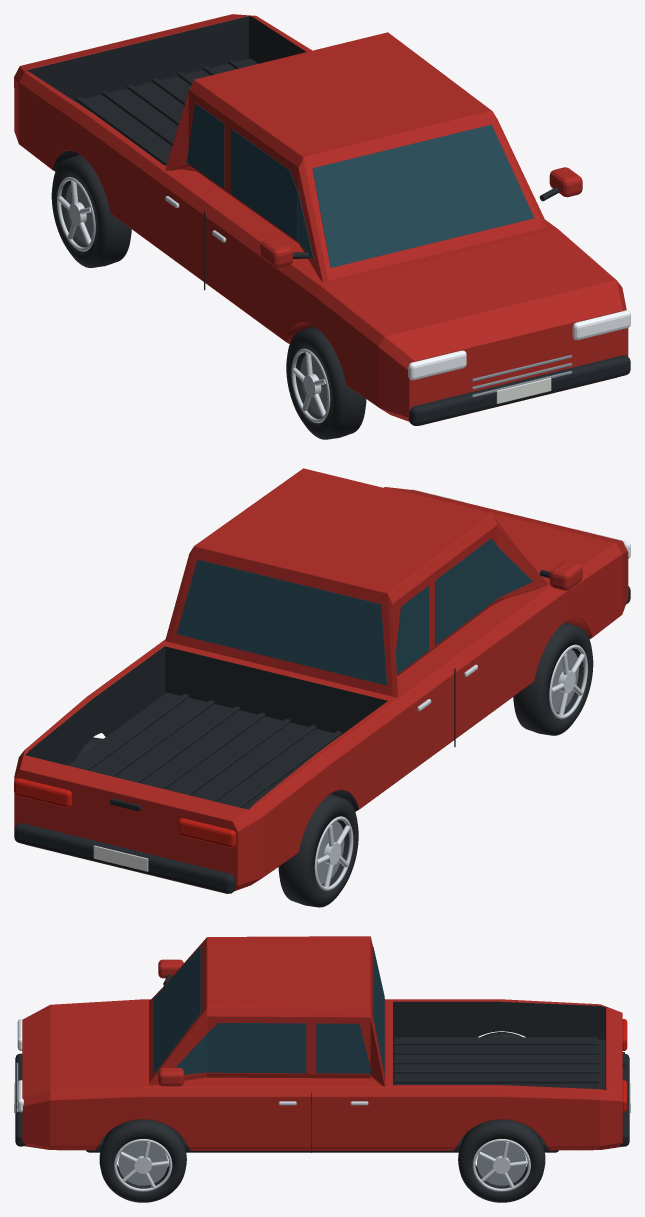
The model's file is vehicle-pickup.glb.
The picture shows the model from 3 angles, top to bottom: view 1: azimuth 30°, elevation 25°; view 2: azimuth 150°, elevation 25°; view 3: azimuth 270°, elevation 25°; orthographic projection. The views are drawn at different scales.
Visible parts, largest first — view 1: Coachwork lower body, Cab and roof, Front windscreen, Front side glass.001, Front_tire, Rear_tire, Bed liner, Bumper, Rear side glass, Headlamp, Headlamp.001, Blank registration panel (+7 smaller); view 2: Coachwork lower body, Cab and roof, Rear windscreen, Bed liner, Rear_tire, Front_tire, Front side glass.001, Bumper.001, Rear side glass, Tail lamp, Tail lamp.001, Front side glass (+13 smaller); view 3: Coachwork lower body, Cab and roof, Bed liner, Front side glass.003, Front_tire.001, Rear_tire.001, Front windscreen, Rear side glass.002, Front_brake.001, Rear_brake.001, Bed rib, Bed rib.002 (+11 smaller).
Boxes of the visible parts, x1,y1,x2,y2 form: Coachwork lower body: [14, 14, 628, 425]; Cab and roof: [165, 32, 548, 281]; Front windscreen: [312, 124, 534, 267]; Front side glass.001: [230, 129, 297, 240]; Front_tire: [286, 326, 366, 439]; Rear_tire: [51, 155, 131, 267]; Bed liner: [75, 58, 257, 163]; Bumper: [408, 355, 630, 425]; Rear side glass: [187, 103, 224, 188]; Headlamp: [408, 350, 466, 380]; Headlamp.001: [572, 310, 630, 340]; Blank registration panel: [496, 377, 551, 403]; Coachwork lower body: [14, 487, 628, 893]; Cab and roof: [165, 468, 547, 697]; Rear windscreen: [176, 559, 387, 685]; Bed liner: [67, 692, 337, 809]; Rear_tire: [278, 794, 358, 907]; Front_tire: [513, 622, 593, 735]; Front side glass.001: [435, 538, 498, 645]; Bumper.001: [14, 823, 235, 893]; Rear side glass: [395, 585, 428, 674]; Tail lamp: [178, 818, 236, 847]; Tail lamp.001: [14, 778, 72, 807]; Front side glass: [498, 548, 532, 597]; Coachwork lower body: [22, 999, 622, 1150]; Cab and roof: [149, 936, 385, 1086]; Bed liner: [393, 1037, 598, 1088]; Front side glass.003: [207, 1023, 306, 1073]; Front_tire.001: [99, 1119, 186, 1202]; Rear_tire.001: [458, 1119, 545, 1202]; Front windscreen: [154, 946, 200, 1073]; Rear side glass.002: [316, 1023, 370, 1073]; Front_brake.001: [118, 1141, 167, 1185]; Rear_brake.001: [477, 1141, 526, 1185]; Bed rib: [393, 1041, 598, 1045]; Bed rib.002: [393, 1060, 598, 1064].
Bounding box in the file's own units: 2.44 × 1.82 × 5.51.
